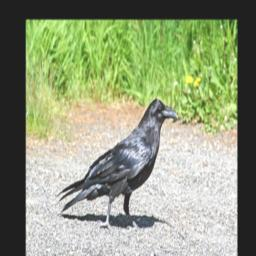Crow: (53, 98, 179, 235)
